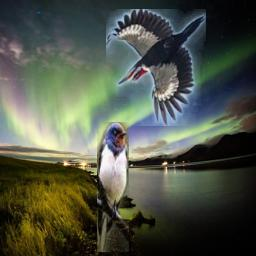Swallow: (97, 122, 129, 252)
Woodpecker: (106, 9, 206, 126)
